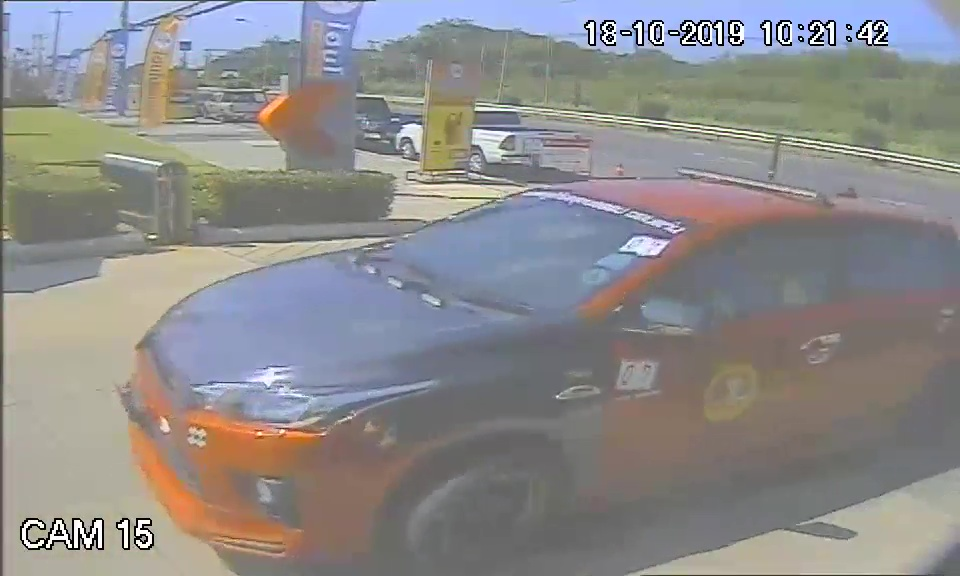sedan: (118, 178, 958, 544)
